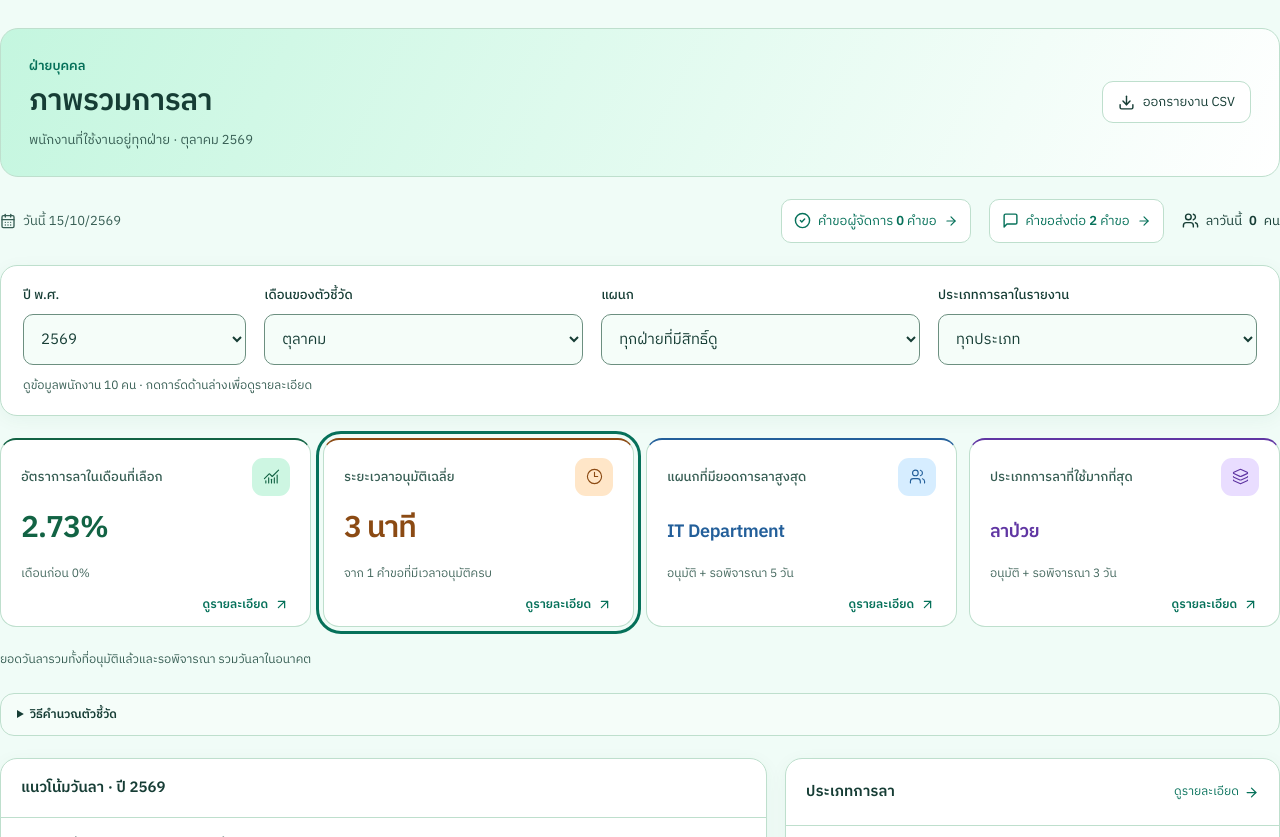
Test: KPI ระยะเวลาอนุมัติเฉลี่ย opens a closable dialog and restores focus and filters
The image size is (1280, 837).
Click the button with aria-label "ดูรายละเอียดระยะเวลาอนุมัติเฉลี่ย": [478, 532] box [323,438,634,627]
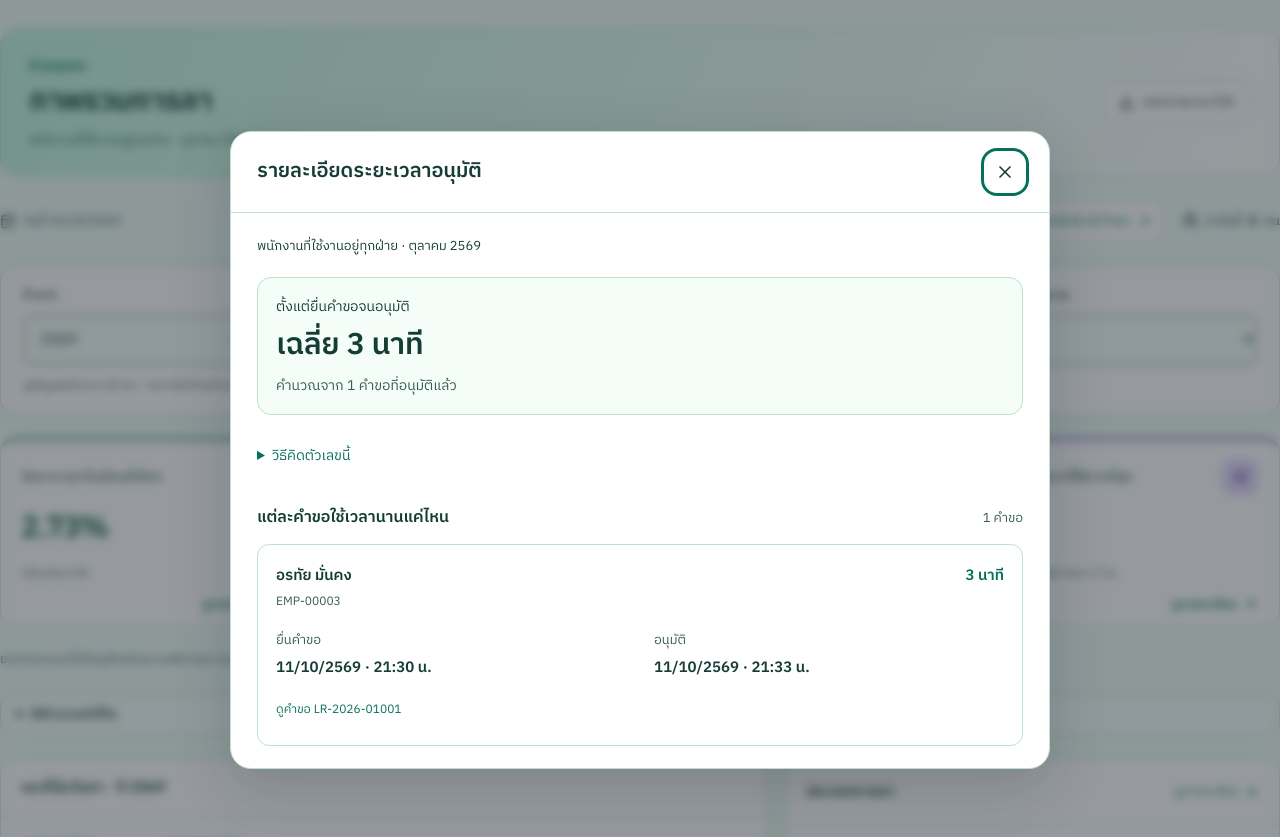
Check: the dialog "รายละเอียดระยะเวลาอนุมัติ" is shown, box [230,132,1050,768]
Click the button named "ปิด": [1005, 172] box [987,154,1023,190]
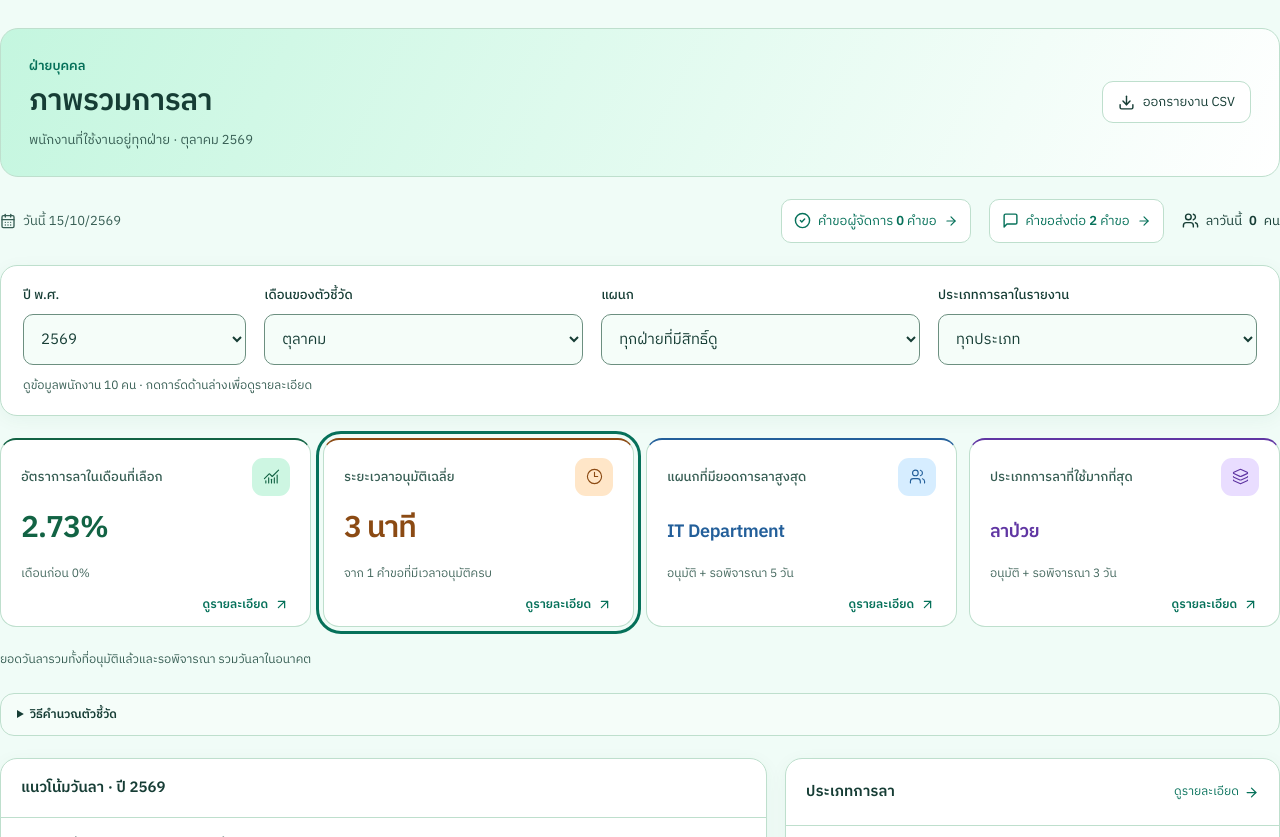
Check: the dropdown labelled "เดือนของตัวชี้วัด" shows "ตุลาคม", box [264,314,583,365]
Check: the dialog is gone
